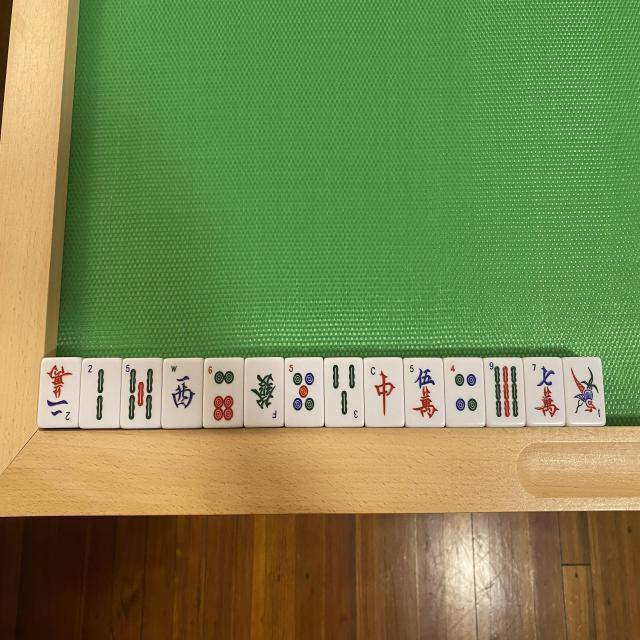hdg: (248, 358, 286, 426)
hdr: (363, 358, 401, 426)
hww: (163, 361, 203, 428)
sb1: (566, 360, 605, 424)
sb2: (80, 358, 118, 428)
sb3: (326, 359, 364, 426)
sb5: (122, 361, 162, 429)
sb9: (486, 358, 524, 423)
sc2: (41, 356, 82, 426)
sc5: (408, 359, 442, 426)
sc7: (524, 360, 564, 424)
sd4: (446, 358, 485, 426)
sd5: (285, 359, 323, 426)
sd6: (204, 362, 243, 428)
